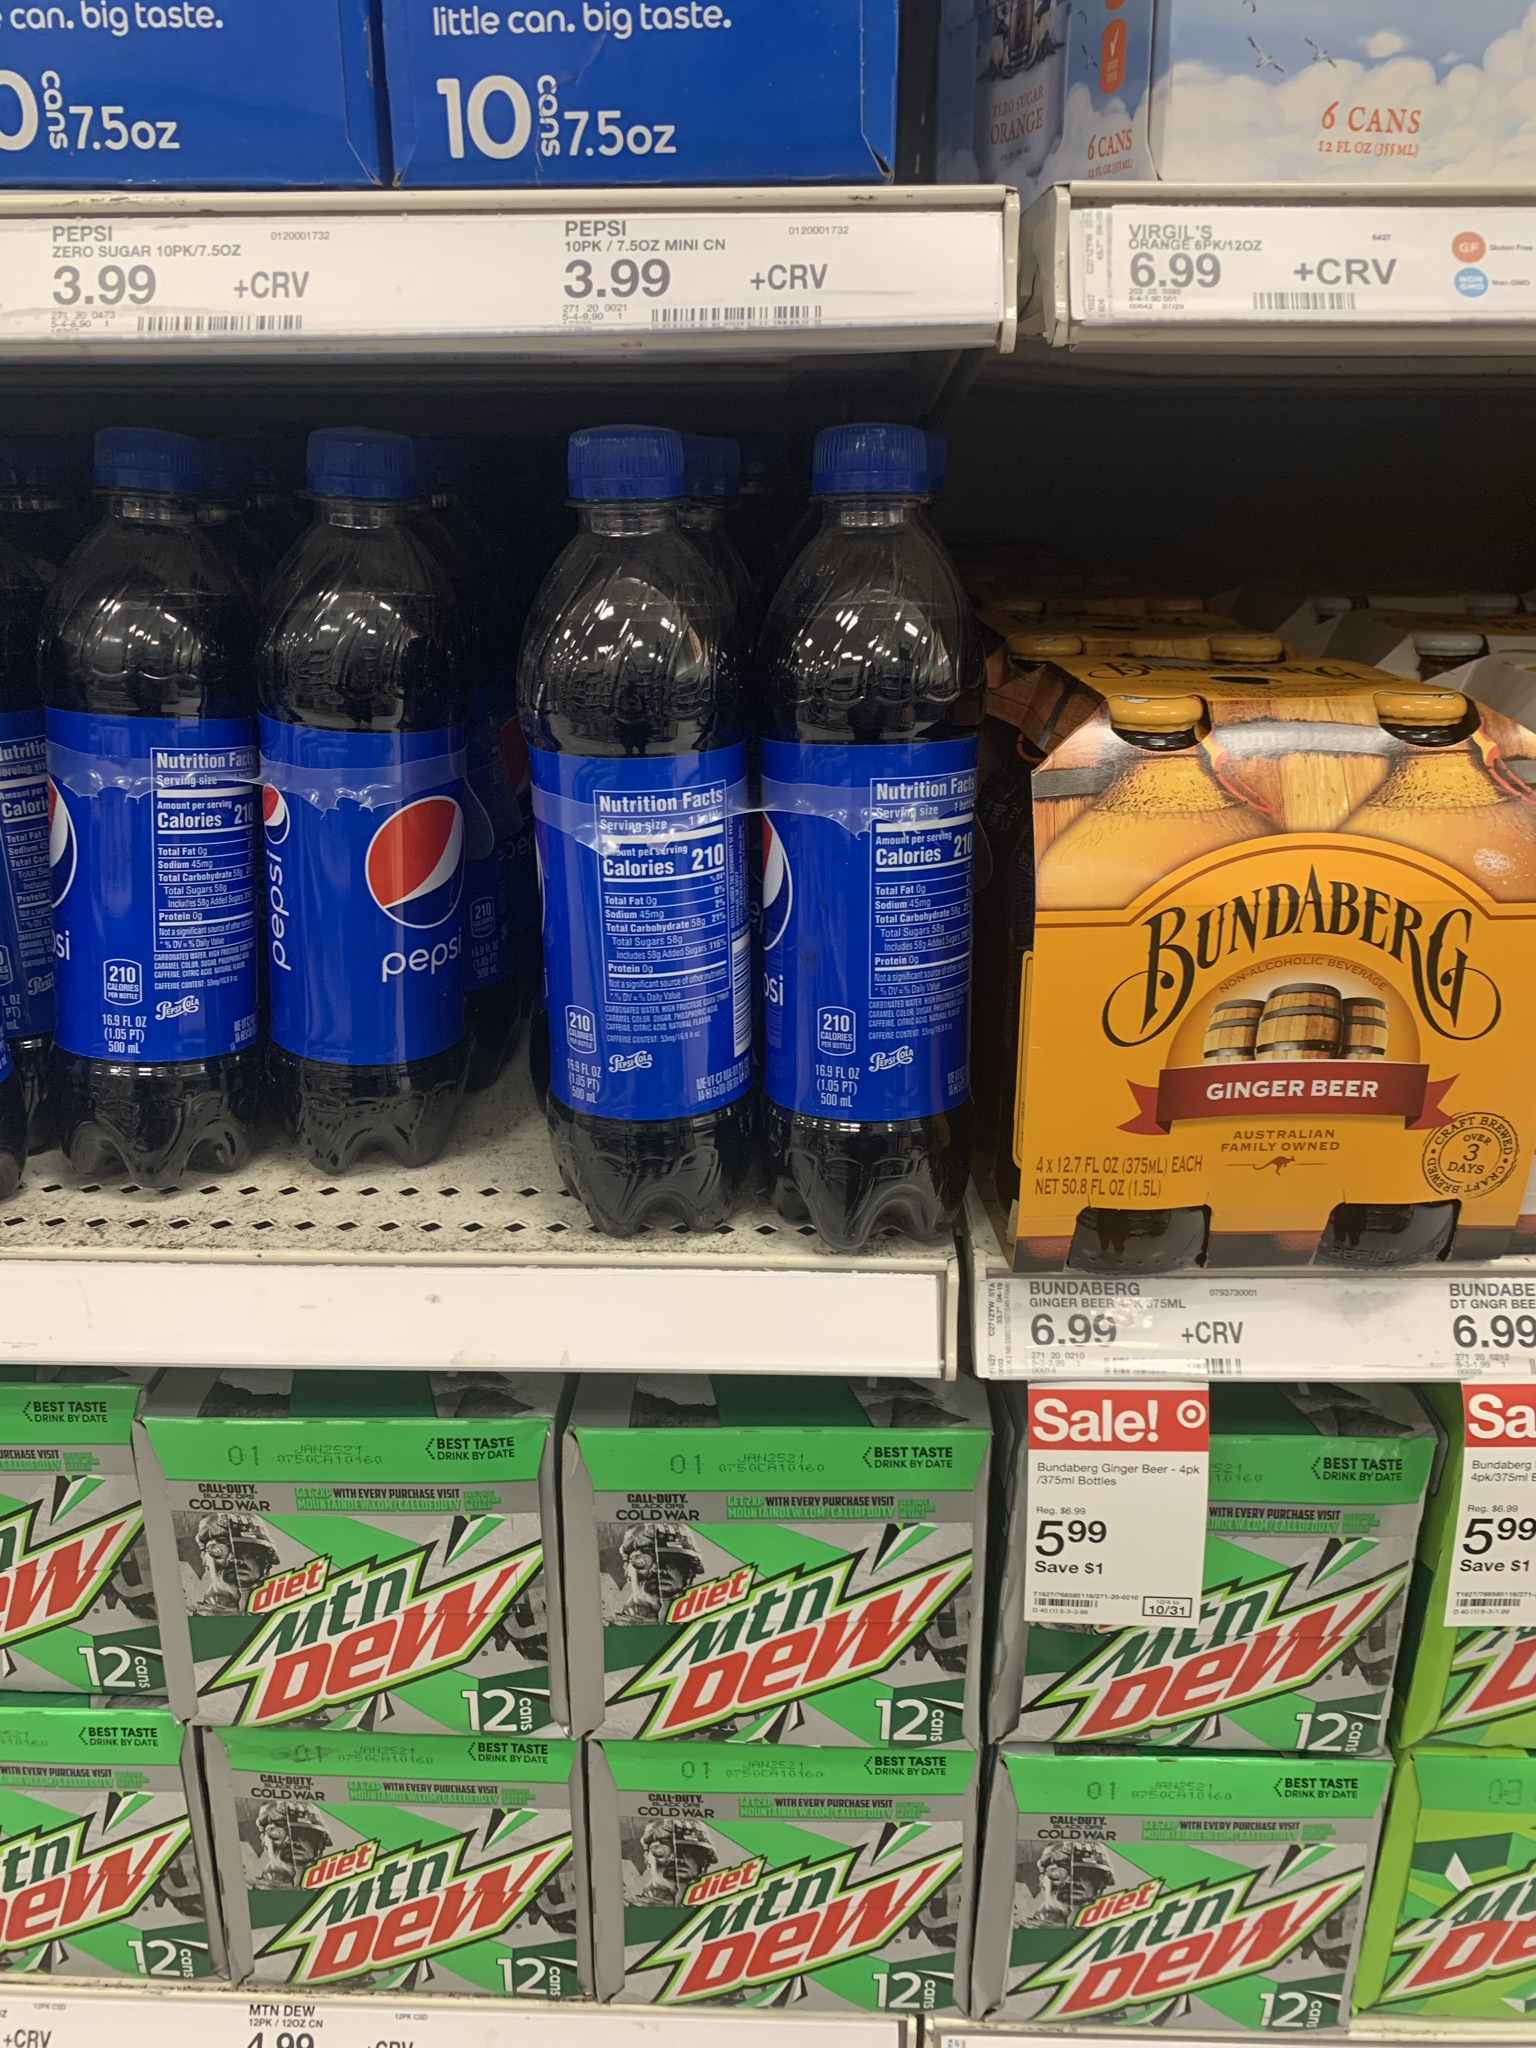bundaberg soda: (1052, 689, 1534, 1274), (129, 1421, 579, 1806)
mountain dew soda: (592, 1421, 958, 1759), (1039, 1429, 1402, 1769), (997, 1766, 1354, 2048), (599, 1775, 984, 2014), (198, 1764, 599, 1980)
pepsi soda: (74, 429, 266, 1230), (274, 429, 484, 1150), (573, 429, 762, 1219), (802, 429, 957, 1234)
